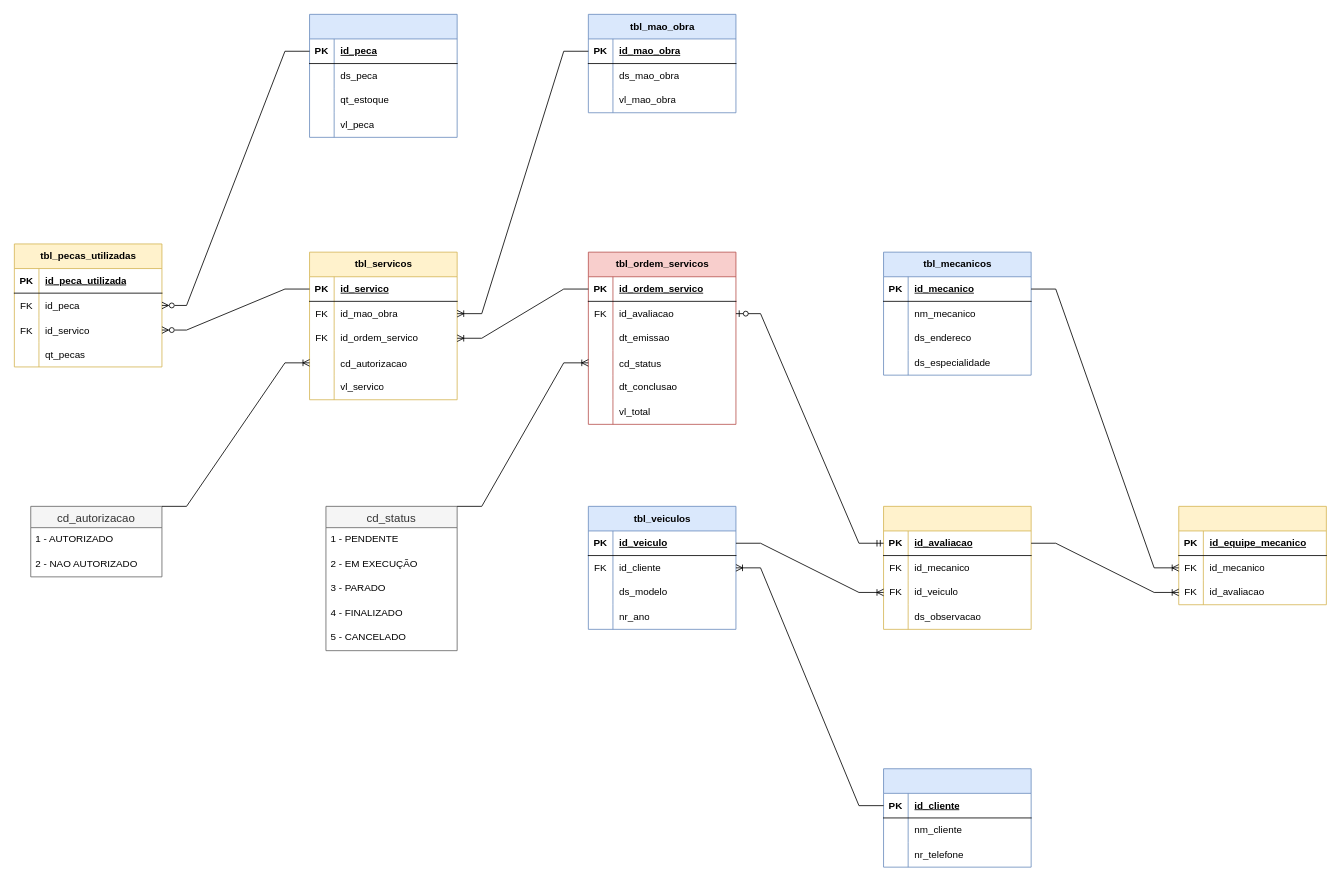
Image size: 1341x882. Some labels were removed from this diagram. The box of each missing label's shape, as (x1, y1, x2, y2) in pixels:
tbl_avaliacoes: (883, 506, 1031, 629)
tbl_clientes: (883, 768, 1031, 867)
tbl_equipe_mecanicos: (1178, 506, 1326, 605)
tbl_pecas: (309, 14, 457, 137)
